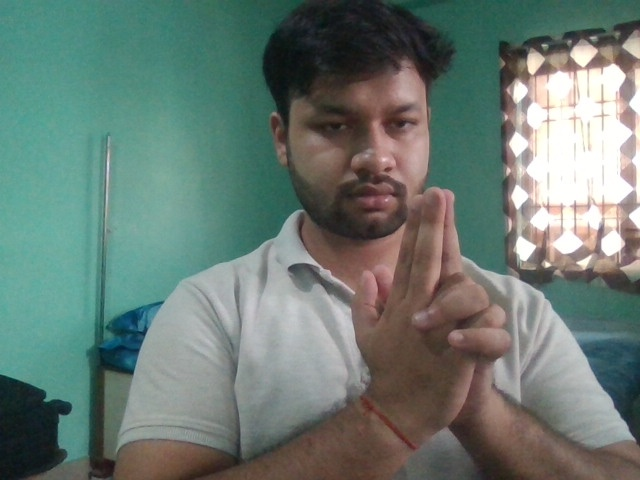1000 Years of Death: (354, 183, 510, 442)
